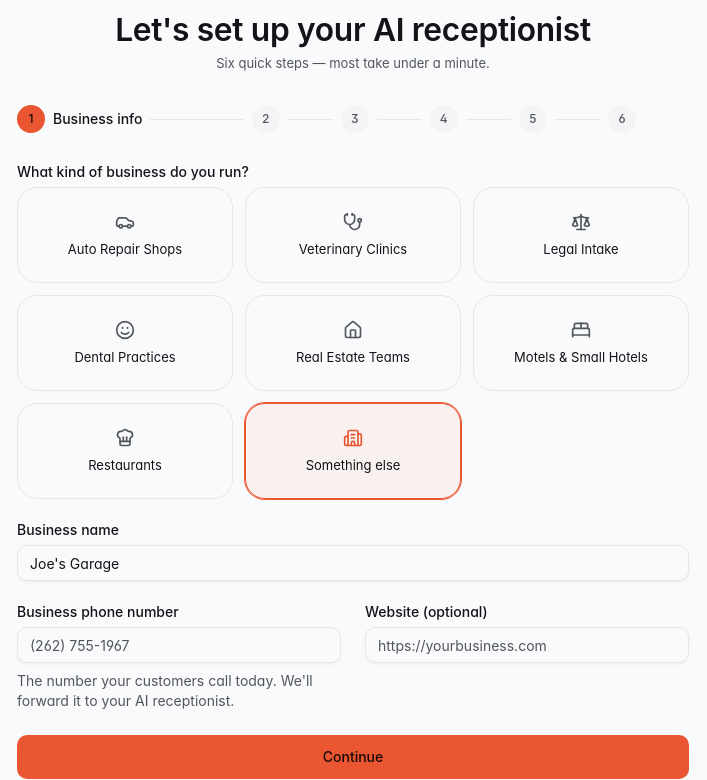
Test case: BusinessTypeForm (F-12) › shows an error instead of looking dead when saving the draft fails
Click the button "Continue" at (353, 757), box [17,735,689,779]
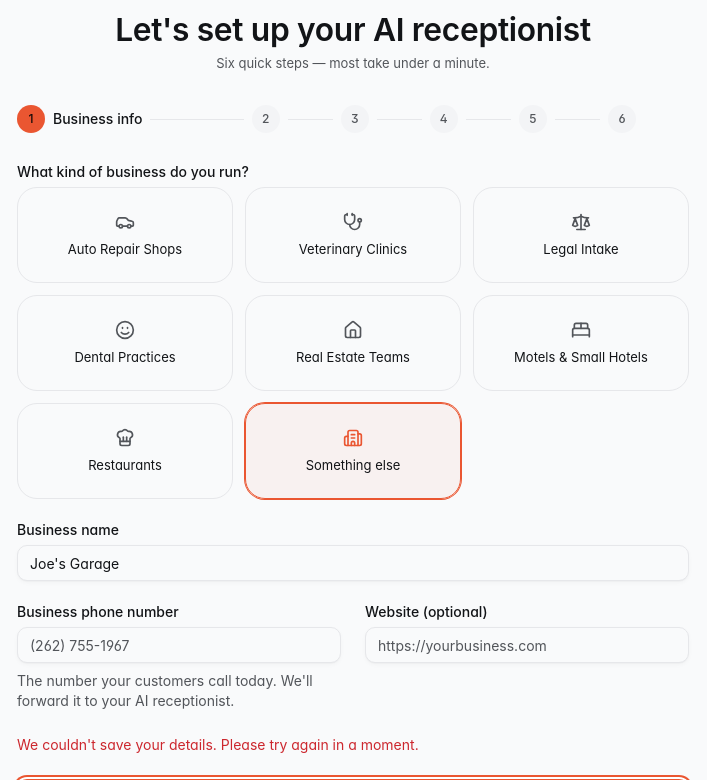
Check: the message shows "couldn't save your details", box [17,736,419,753]
